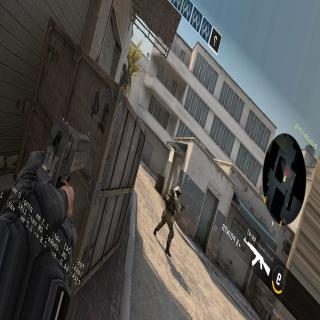CT-Body: (159, 183, 182, 240)
CT-Head: (173, 186, 180, 197)
